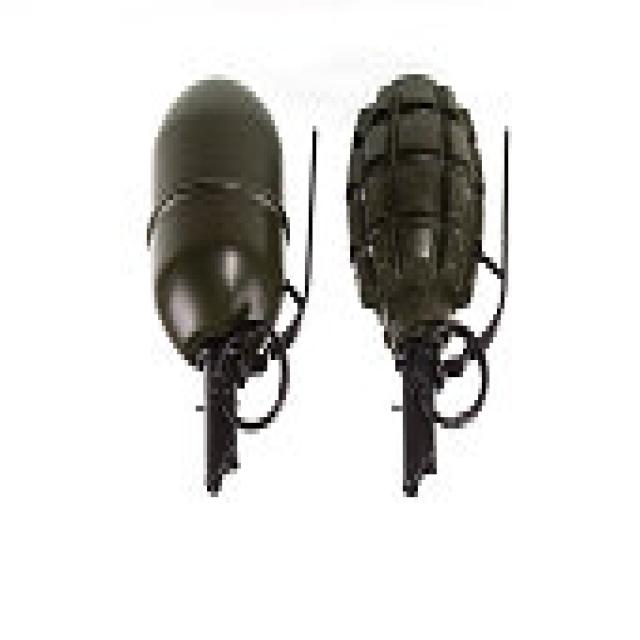grenade: (141, 68, 325, 501), (340, 70, 519, 511)
